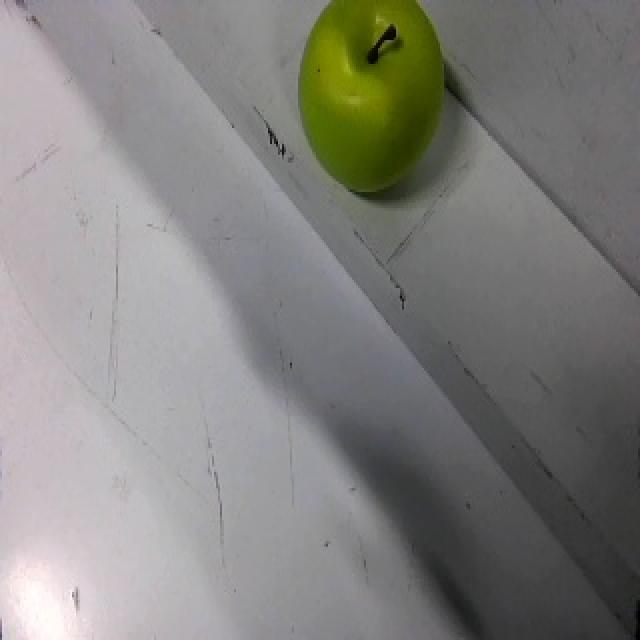apple: (295, 0, 454, 202)
